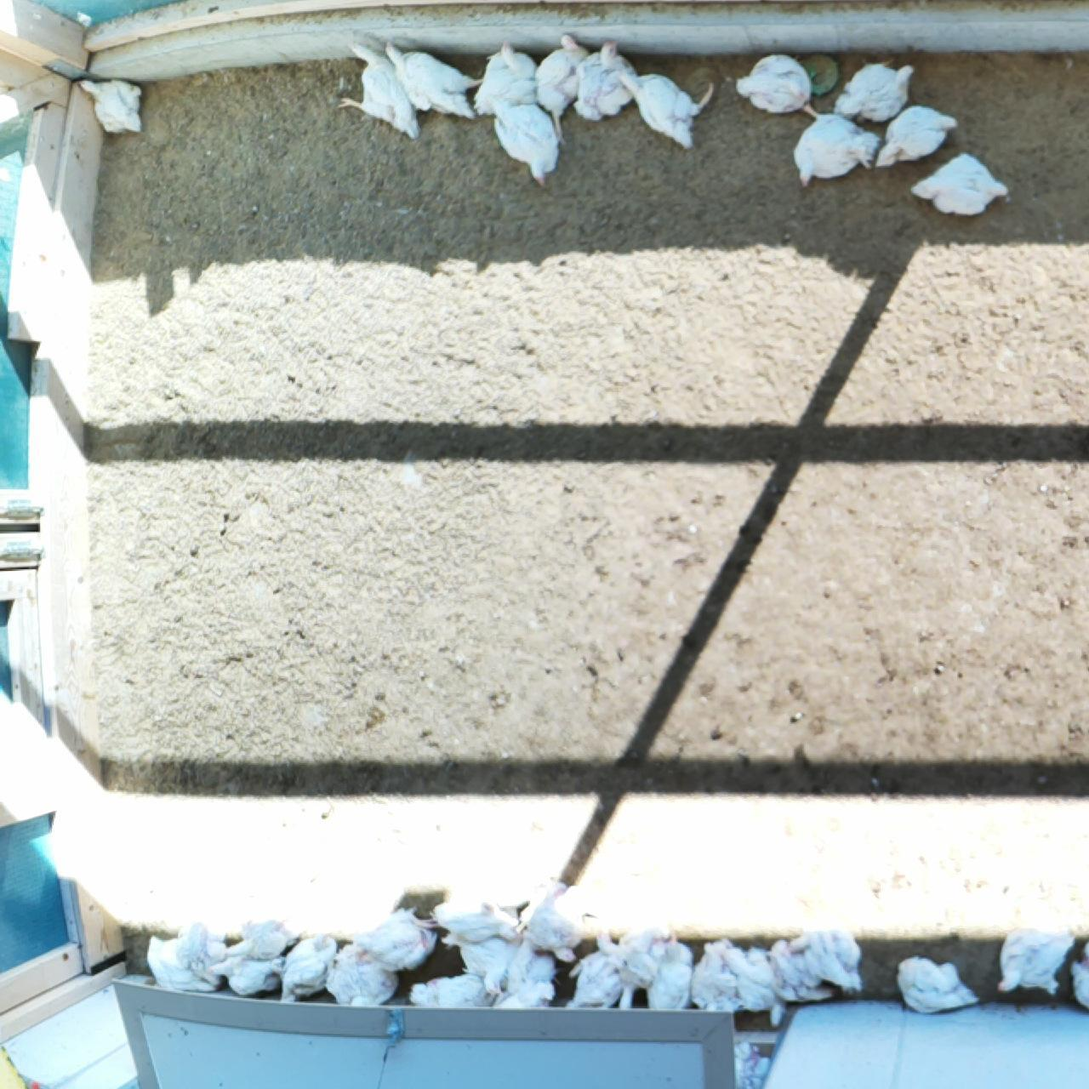chicken: (335, 38, 419, 143), (383, 38, 486, 123), (617, 64, 716, 151), (521, 875, 607, 966), (487, 95, 561, 191), (791, 112, 882, 190), (908, 153, 1010, 220), (534, 31, 591, 147), (348, 904, 440, 974), (733, 52, 823, 122), (871, 103, 958, 172), (572, 41, 640, 126), (721, 941, 788, 1027), (470, 39, 542, 119), (784, 924, 865, 995), (895, 954, 982, 1019), (994, 926, 1075, 994), (831, 60, 915, 125), (142, 933, 231, 994), (595, 926, 681, 989), (322, 943, 401, 1011), (427, 898, 526, 947), (767, 933, 836, 1002), (457, 932, 526, 999), (687, 934, 744, 1015), (277, 930, 339, 1003), (74, 75, 146, 136), (207, 947, 288, 998), (562, 947, 624, 1013), (225, 913, 304, 963), (408, 969, 495, 1013), (175, 921, 225, 994), (644, 938, 693, 1012), (493, 974, 558, 1015), (733, 1037, 775, 1089), (522, 944, 559, 984), (1069, 939, 1089, 1013)
